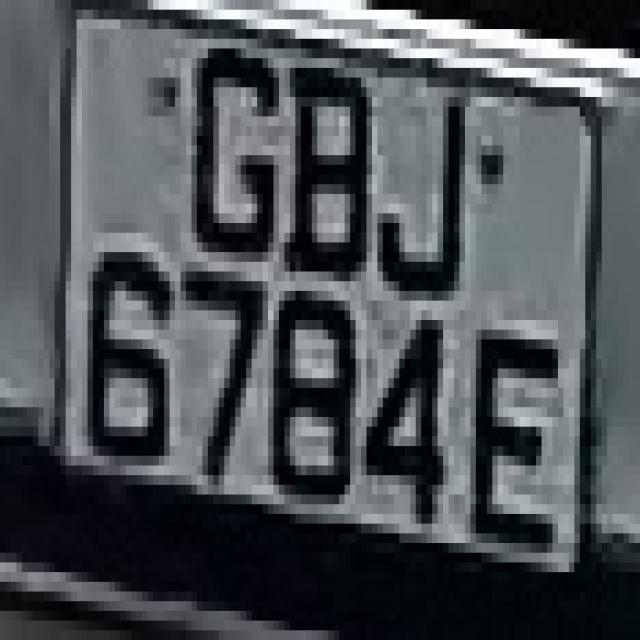4: (366, 252, 459, 572)
6: (71, 213, 181, 494)
7: (175, 252, 263, 533)
8: (274, 252, 366, 543)
B: (279, 38, 383, 300)
E: (470, 291, 574, 572)
G: (180, 0, 279, 281)
J: (378, 48, 482, 330)
